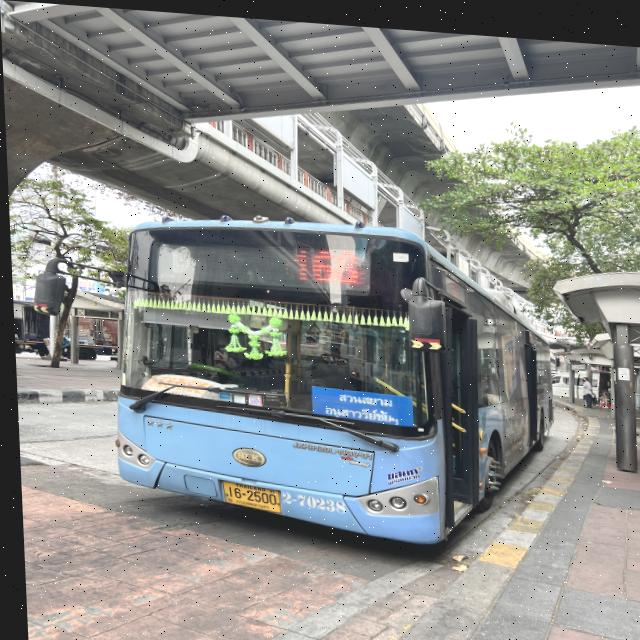BMTA-bus: (110, 216, 551, 543)
Bus Line Number: (285, 234, 366, 285)
Bus Side Number: (277, 482, 346, 512)
Destination Sign: (308, 382, 409, 422)
